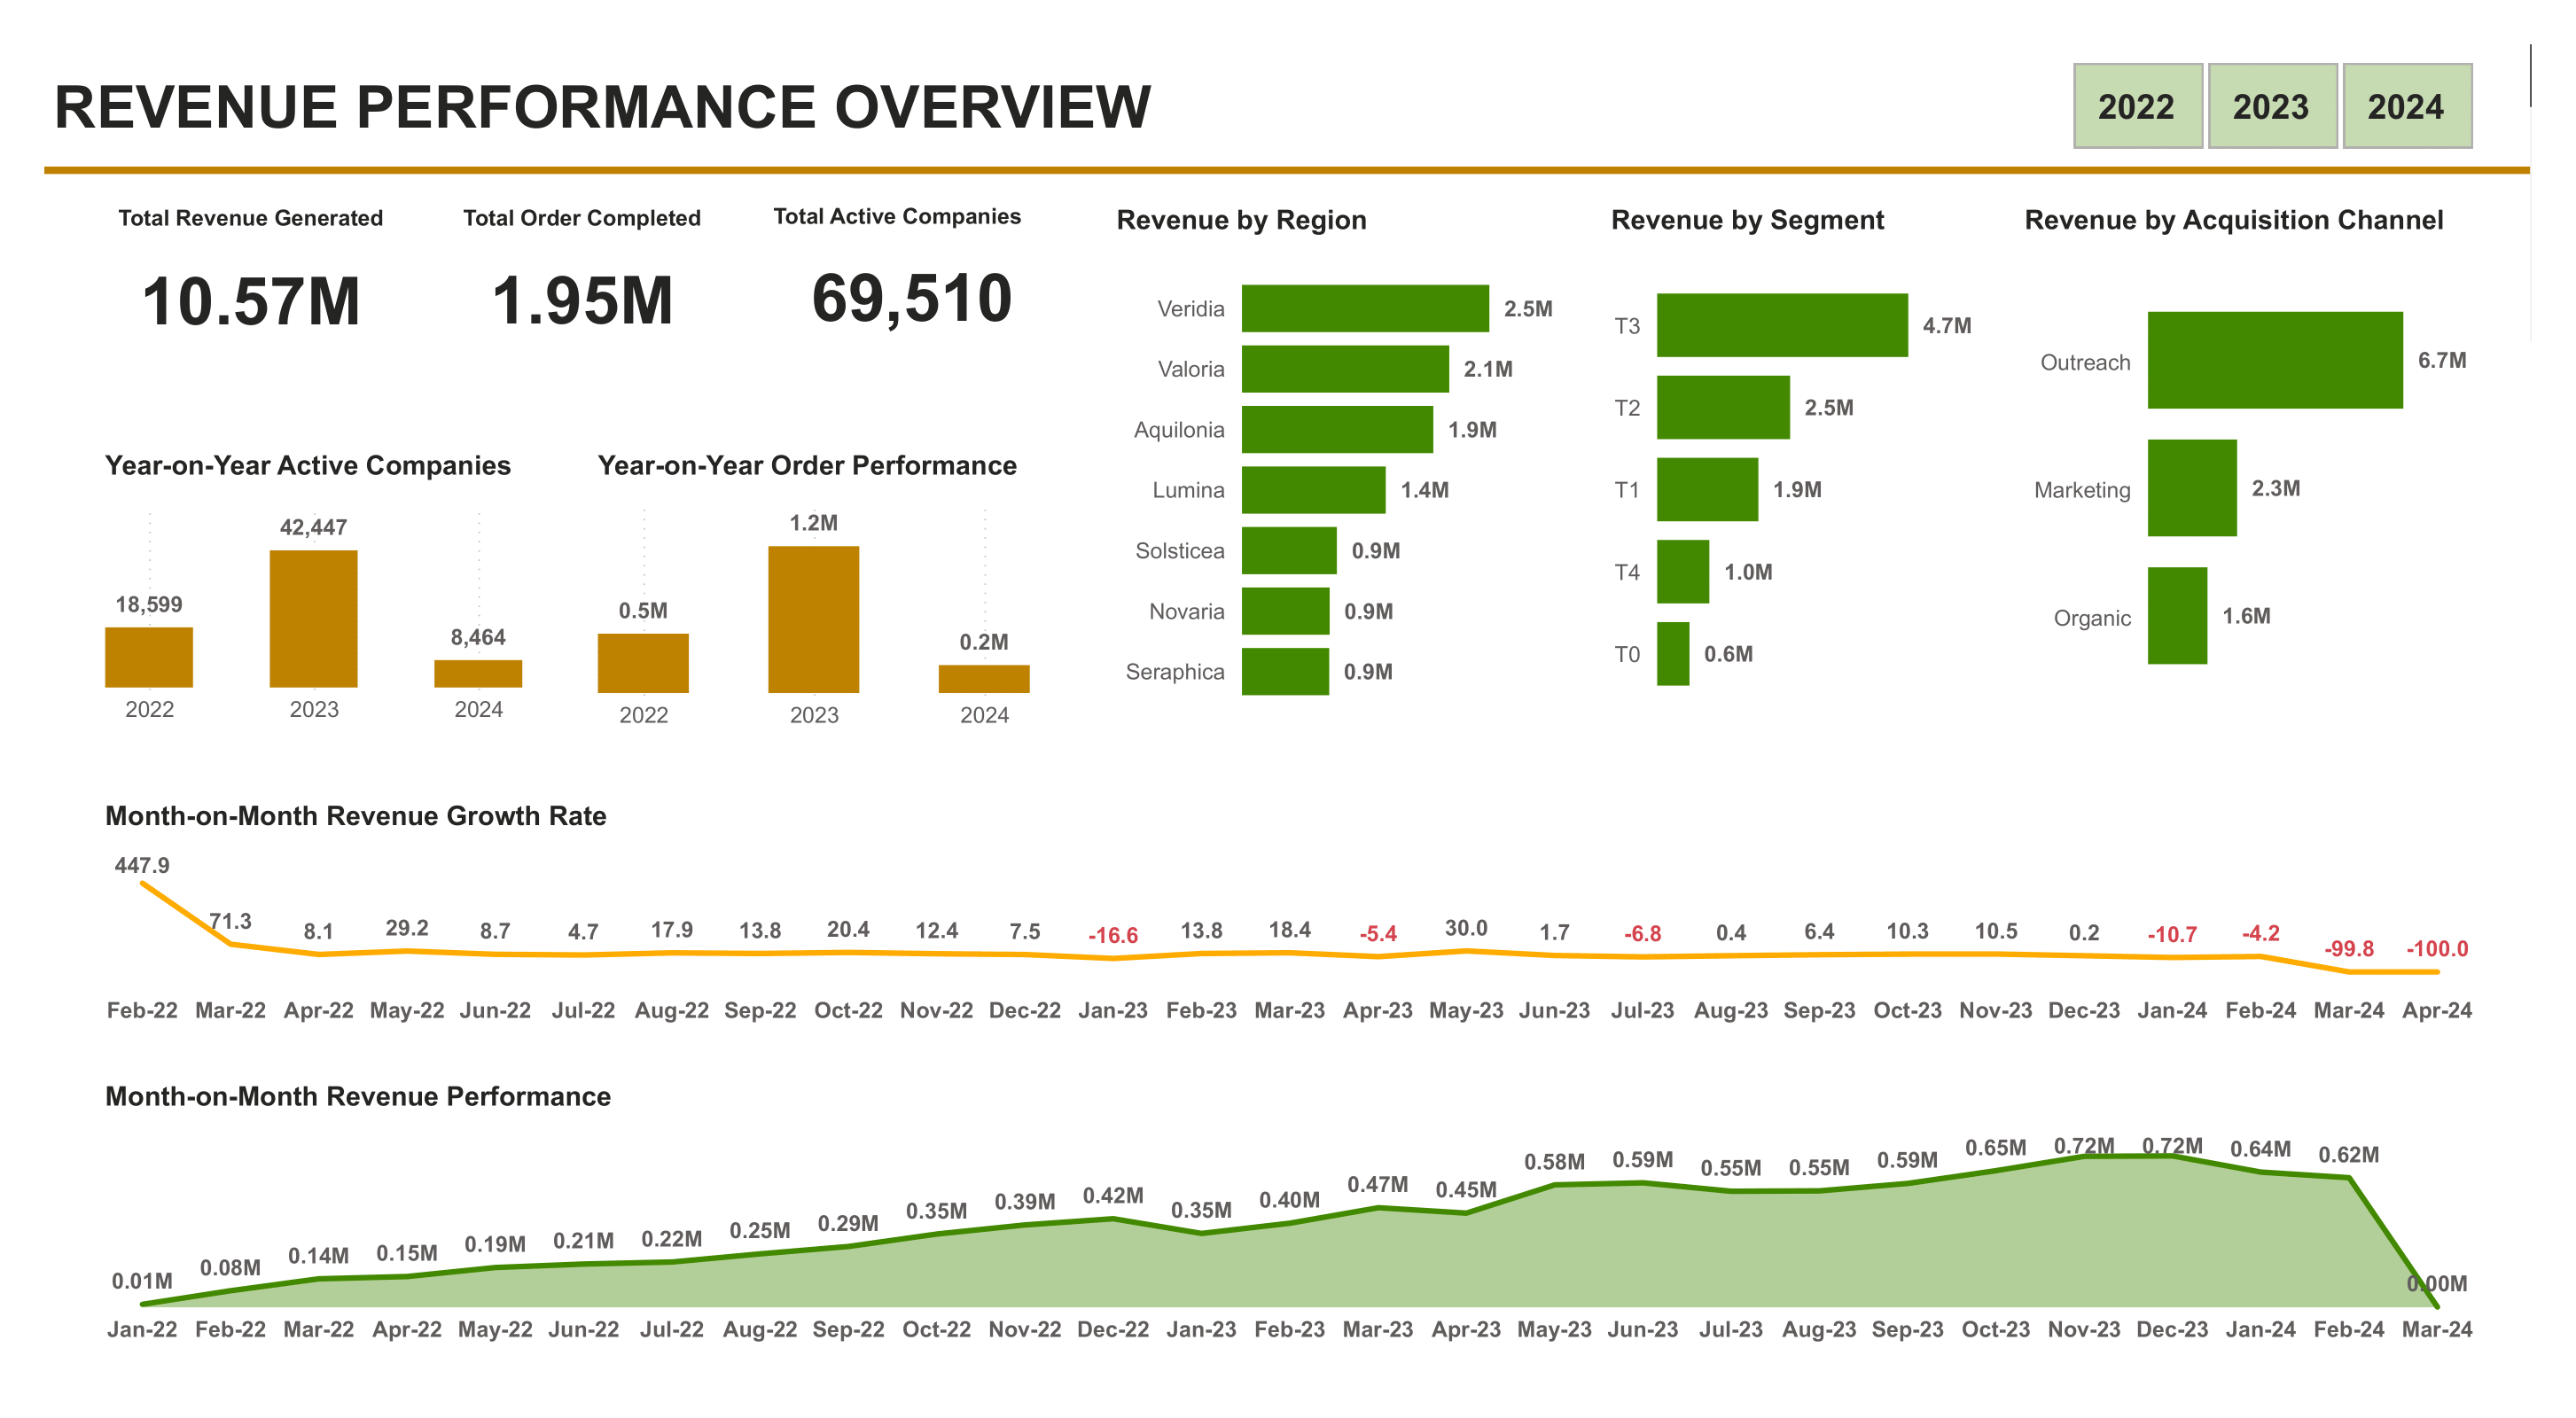

The dashboard page shown, as its layout file describes it:
{"tool":"powerbi","page":{"name":"Page 1","canvas":[1347,720],"ordinal":0},"visuals":[{"type":"textbox","box":[0,11.3,727,50.2],"z":0},{"type":"areaChart","title":"Month-on-Month Revenue Performance","fields":{"Category":["Date_Table.Month_Year"],"Y":["Sum(Orders data.Revenue)"]},"box":[28.1,561.9,1293.8,150.6],"z":1000},{"type":"clusteredBarChart","title":"Revenue by Region","fields":{"Y":["Sum(Orders data.Revenue)"],"Category":["Orders data.Region"]},"box":[576.4,87.4,251,283.4],"z":2000},{"type":"clusteredBarChart","title":"Revenue by Segment","fields":{"Y":["Sum(Orders data.Revenue)"],"Category":["Orders data.Segment"]},"box":[843.6,87.4,212.1,283.4],"z":3000},{"type":"clusteredBarChart","title":"Revenue by Acquisition Channel","fields":{"Y":["Sum(Orders data.Revenue)"],"Category":["Orders data.Acquisition Channel"]},"box":[1067.7,87.4,254.2,283.4],"z":4000},{"type":"shape","box":[0,61.5,1347,13],"z":5000},{"type":"card","title":"Total Revenue Generated","fields":{"Values":["Sum(Orders data.Revenue)"]},"box":[27.5,87.4,168.4,87.4],"z":6000},{"type":"card","title":"Total Order Completed","fields":{"Values":["Sum(Orders data.Orders)"]},"box":[207.3,87,168.4,87.4],"z":7000},{"type":"card","title":"Total Active Companies","fields":{"Values":["Sum(Orders data.Active Companies)"]},"box":[390.2,85.8,160.3,87.4],"z":8000},{"type":"clusteredColumnChart","title":"Year-on-Year Order Performance","fields":{"Y":["Sum(Orders data.Orders)"],"Category":["Date_Table.Year"]},"box":[294.7,220.2,244.5,158.7],"z":9000},{"type":"lineChart","title":"Month-on-Month Revenue Growth Rate","fields":{"Category":["Date_Table.Month_Year"],"Y":["Measures (2).MoM Growth Rate (%)"]},"box":[28.1,409.7,1293.8,129.5],"z":10000},{"type":"advancedSlicerVisual","fields":{"Values":["Date_Table.Year"]},"box":[1094.6,4.9,226.7,56.7],"z":11000},{"type":"clusteredColumnChart","title":"Year-on-Year Active Companies","fields":{"Category":["Date_Table.Year"],"Y":["Sum(Orders data.Active Companies)"]},"box":[27.5,220.2,236.4,155.4],"z":12000}]}

Visuals, with their boxes in screenshot pixels (x1, y1, x2, y2):
textbox: [left=44, top=66, right=1386, bottom=158]
"Month-on-Month Revenue Performance" areaChart: [left=97, top=1082, right=2486, bottom=1360]
"Revenue by Region" clusteredBarChart: [left=1109, top=206, right=1573, bottom=728]
"Revenue by Segment" clusteredBarChart: [left=1602, top=206, right=1994, bottom=728]
"Revenue by Acquisition Channel" clusteredBarChart: [left=2016, top=206, right=2486, bottom=728]
shape: [left=44, top=158, right=2532, bottom=182]
"Total Revenue Generated" card: [left=95, top=206, right=406, bottom=367]
"Total Order Completed" card: [left=427, top=205, right=738, bottom=366]
"Total Active Companies" card: [left=765, top=203, right=1061, bottom=364]
"Year-on-Year Order Performance" clusteredColumnChart: [left=589, top=451, right=1040, bottom=744]
"Month-on-Month Revenue Growth Rate" lineChart: [left=97, top=801, right=2486, bottom=1040]
advancedSlicerVisual - Date_Table.Year: [left=2065, top=53, right=2484, bottom=158]
"Year-on-Year Active Companies" clusteredColumnChart: [left=95, top=451, right=532, bottom=738]
